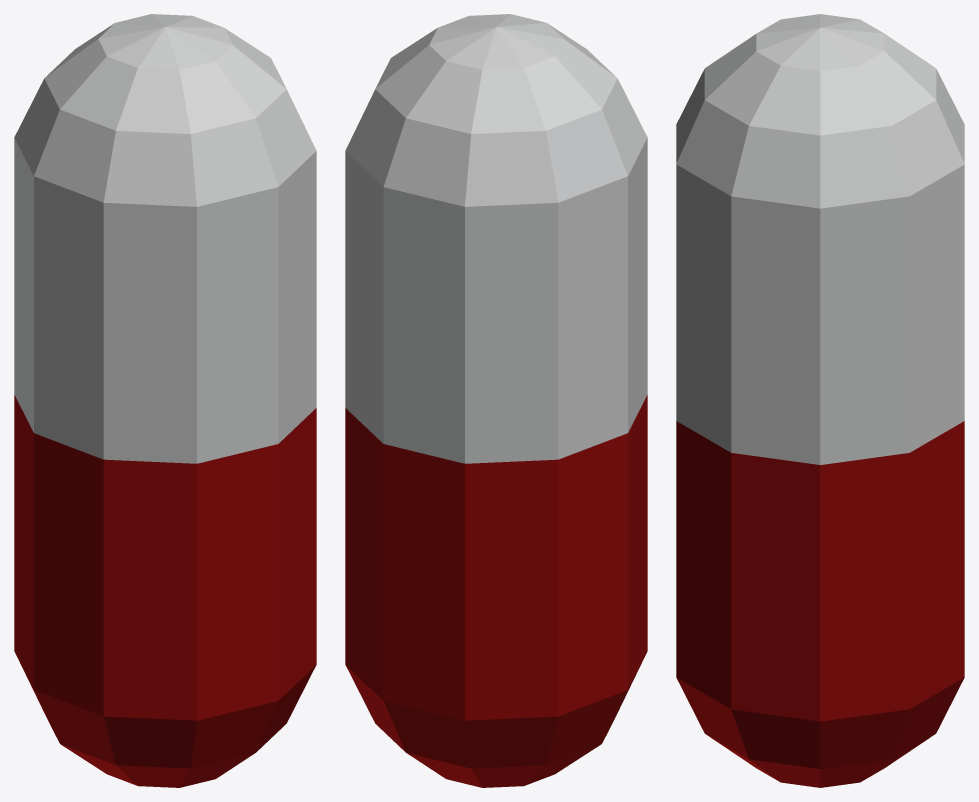
The model's file is SM_Medoc.fbx.
3 views of the same model, side by side, from view 1: azimuth 30°, elevation 25°; view 2: azimuth 150°, elevation 25°; view 3: azimuth 270°, elevation 25° (orthographic).
Parts seen in each view (by area): view 1: pSphere1; view 2: pSphere1; view 3: pSphere1.
Boxes of the visible parts, <box> form: pSphere1: <box>14,14,316,787</box>; pSphere1: <box>345,14,647,787</box>; pSphere1: <box>676,14,964,787</box>.
Bounding box in the file's own units: 0.9826 × 2.67 × 0.9345.
